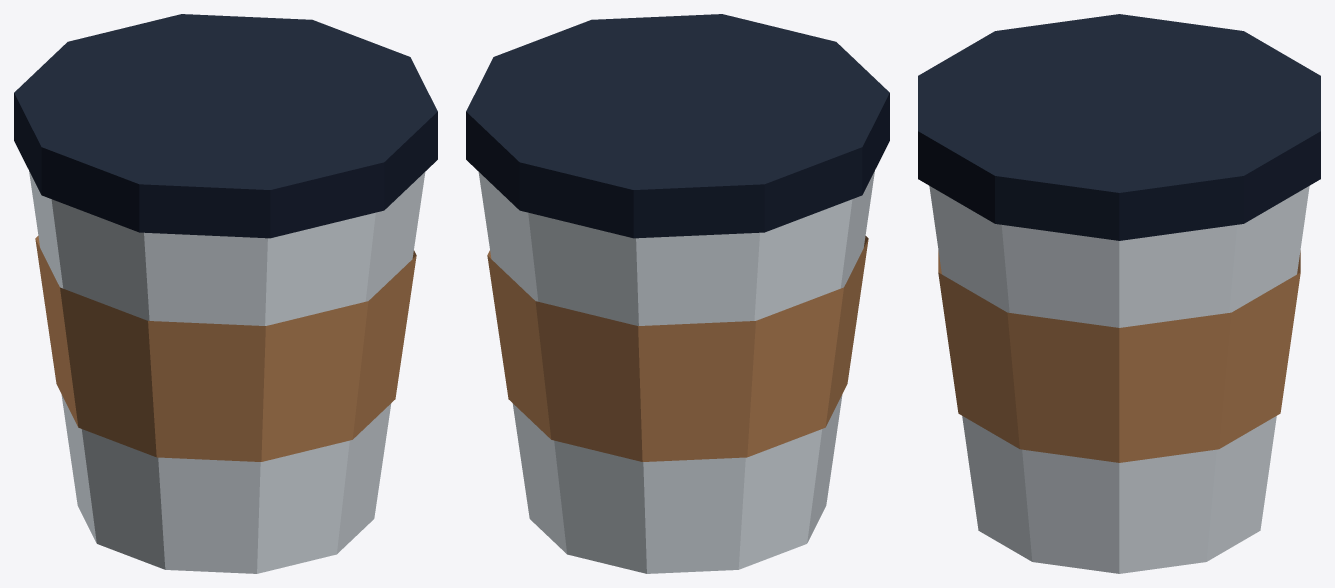
Rendered from coffee.fbx.
The picture shows the model from 3 angles, left to right: view 1: azimuth 30°, elevation 25°; view 2: azimuth 150°, elevation 25°; view 3: azimuth 270°, elevation 25°; orthographic projection.
Parts seen in each view (by area): view 1: Coffee; view 2: Coffee; view 3: Coffee.
Part boxes in pixels (x1=…): Coffee: x1=14, y1=14, x2=437, y2=573; Coffee: x1=466, y1=14, x2=889, y2=573; Coffee: x1=918, y1=14, x2=1320, y2=573.
Size of the model in its own units: 80 by 85 by 76.08.
